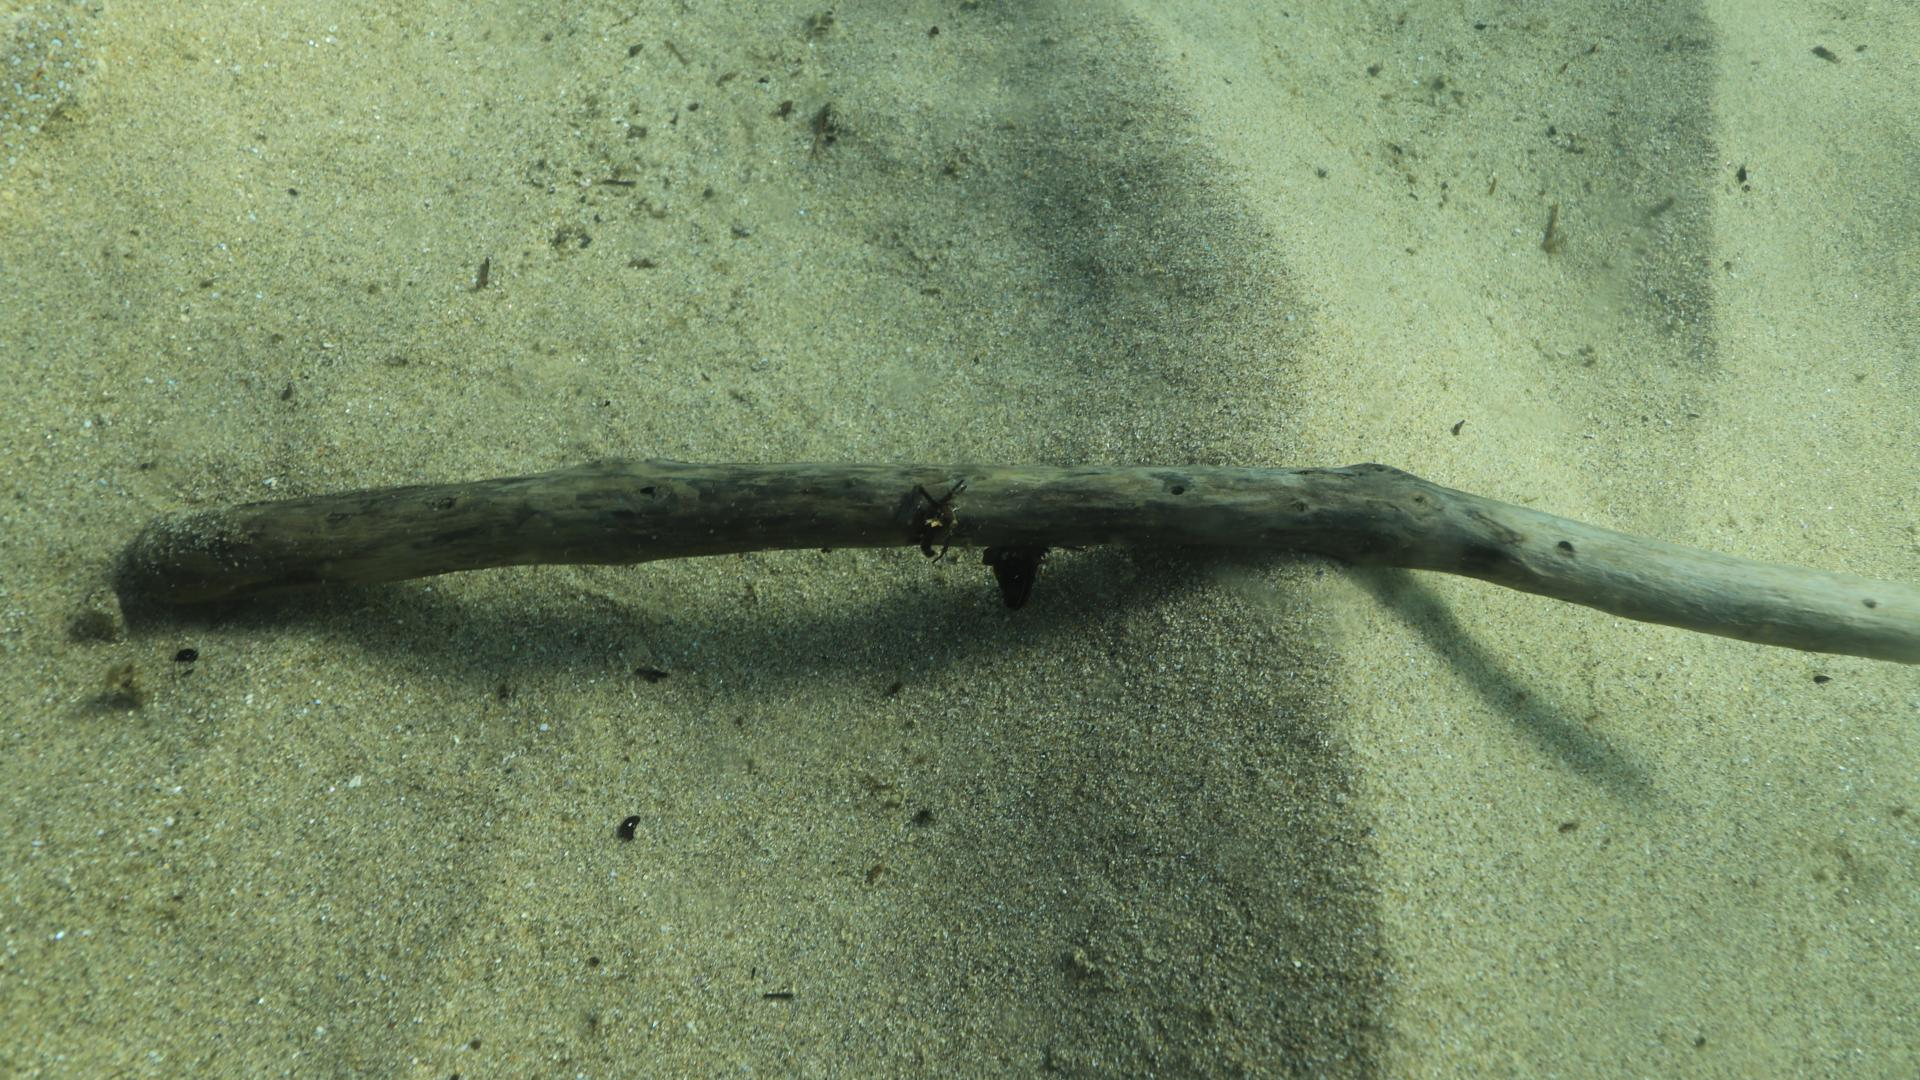wood: (123, 464, 1920, 662)
